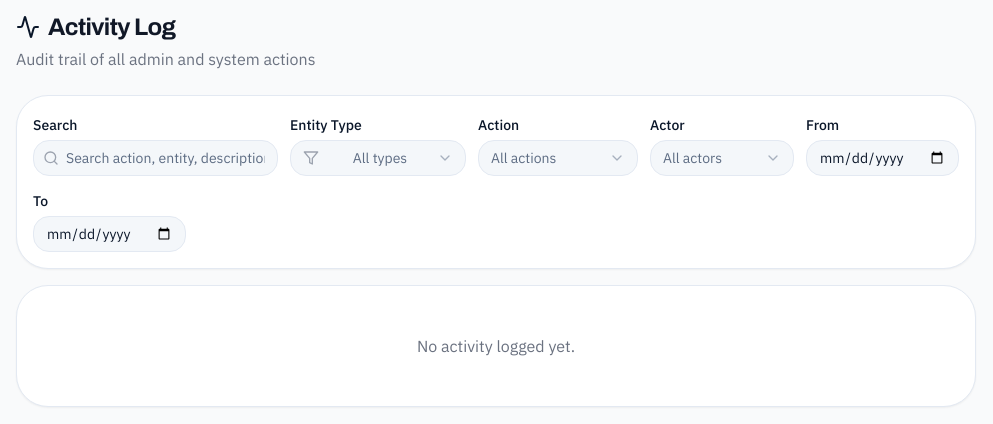
Test: Activity log clear filters › clicking Clear empties the search box and both date inputs
This screenshot has width=993, height=424.
Type "merchant" into the field with test id "input-log-search" at coordinates (156, 158), box [33,140,278,176]
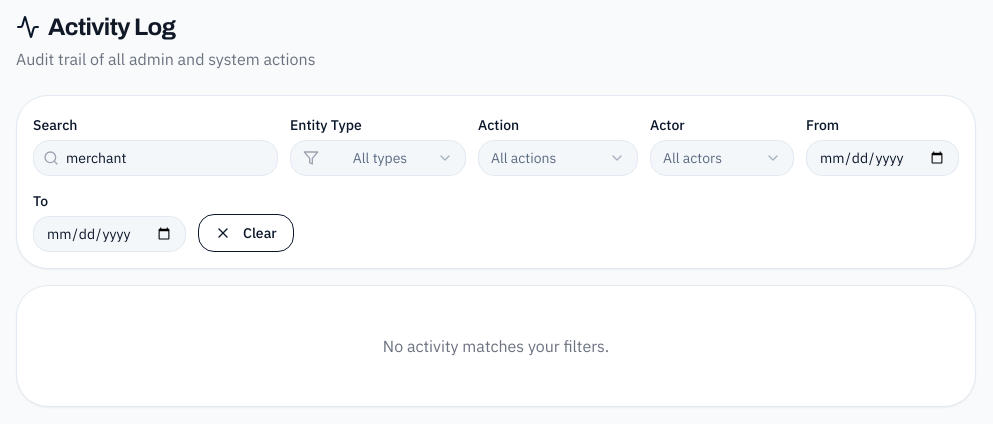
Type "2026-05-01" into the date field with test id "input-log-start-date" at coordinates (882, 158), box [806,140,959,176]
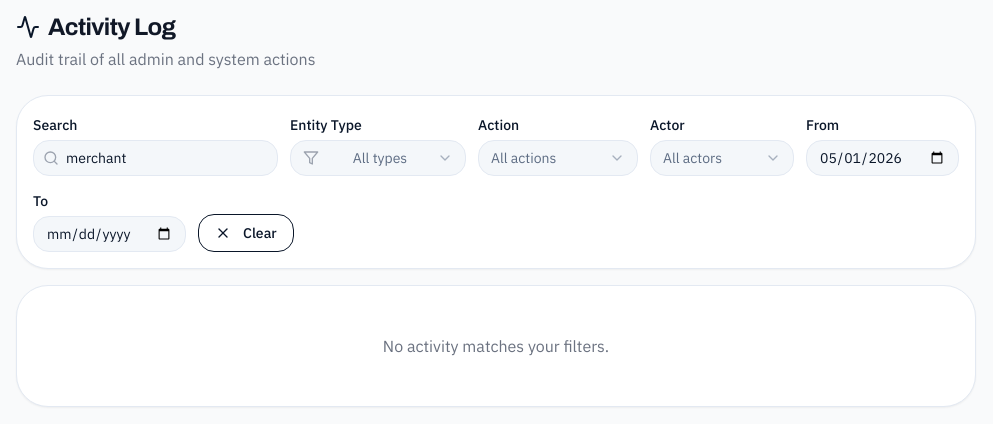
Type "2026-05-31" into the date field with test id "input-log-end-date" at coordinates (110, 234), box [33,216,186,252]
Wait 300 ms
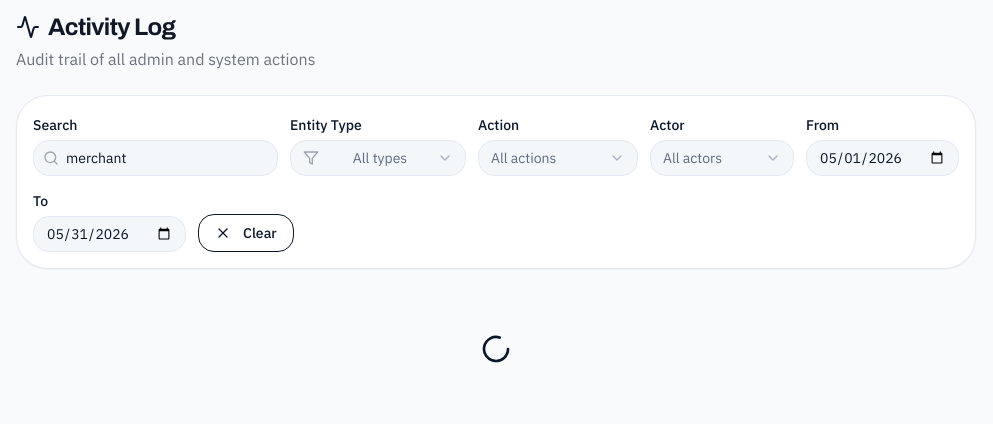
Click the button with test id "button-clear-filters" at coordinates (246, 233), box [198,214,294,252]
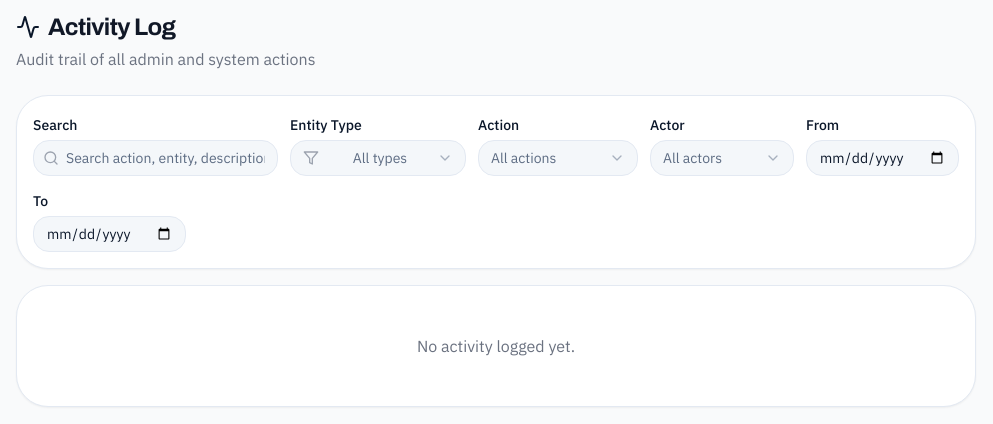
Now the field with test id "input-log-search" is empty, box [33,140,278,176]
Now the date field with test id "input-log-start-date" is empty, box [806,140,959,176]
Now the date field with test id "input-log-end-date" is empty, box [33,216,186,252]
